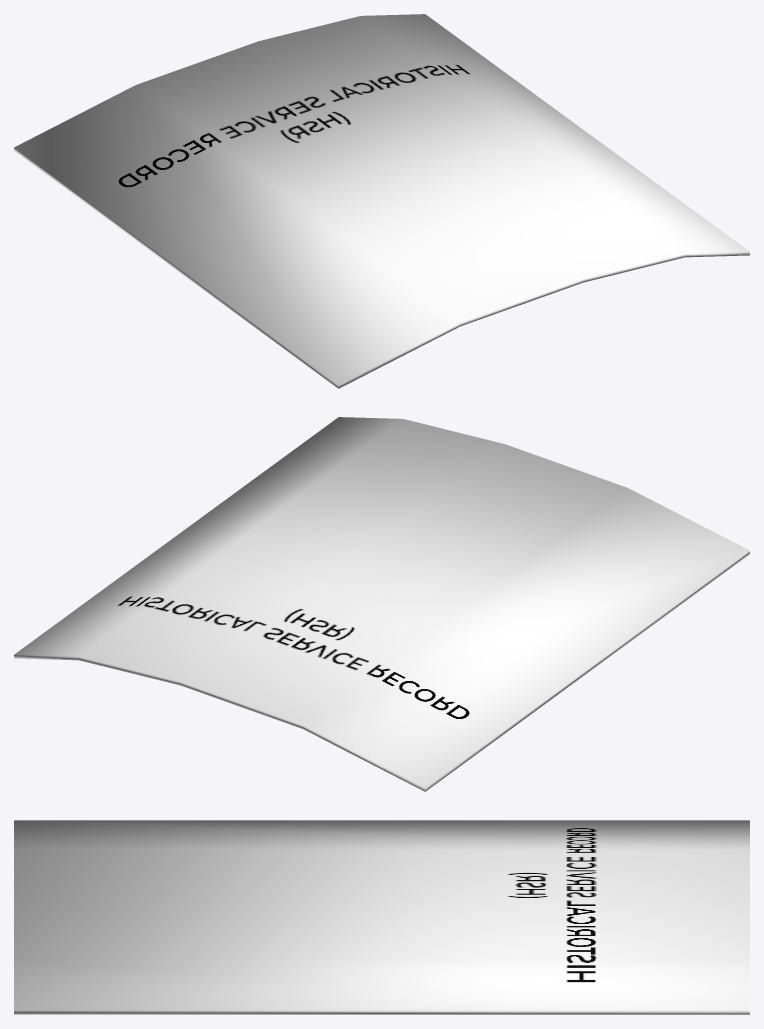
File: Bukuuuuuu (1).fbx
3 views of the same model, one above another, from view 1: azimuth 30°, elevation 25°; view 2: azimuth 150°, elevation 25°; view 3: azimuth 270°, elevation 25° (orthographic). The views are drawn at different scales.
Visible parts, largest first — view 1: book.001; view 2: book.001; view 3: book.001.
Boxes of the visible parts, bbox=[...] form: book.001: bbox=[14, 14, 749, 388]; book.001: bbox=[14, 417, 749, 791]; book.001: bbox=[14, 820, 749, 1014].
Bounding box in the file's own units: 1103 × 130 × 1507.
Materials: 1 (1 with a texture image).
